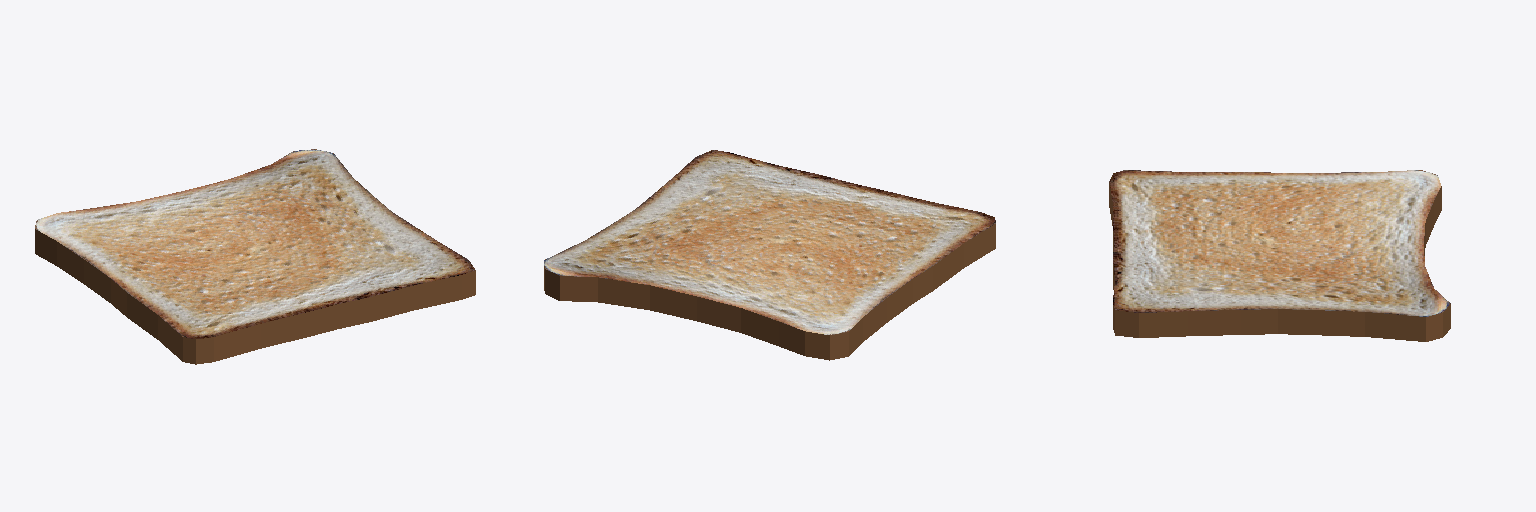
3 views of the same model, side by side, from view 1: azimuth 30°, elevation 25°; view 2: azimuth 150°, elevation 25°; view 3: azimuth 270°, elevation 25° (orthographic).
Visible parts, largest first — view 1: Cylinder_4, Cylinder_4_1; view 2: Cylinder_4, Cylinder_4_1; view 3: Cylinder_4, Cylinder_4_1.
Part boxes in pixels (x1,y1,x2,y2): Cylinder_4: (35,149,474,338); Cylinder_4_1: (35,229,475,364); Cylinder_4: (544,150,995,334); Cylinder_4_1: (544,224,995,360); Cylinder_4: (1109,170,1450,316); Cylinder_4_1: (1109,183,1450,341).
Bounding box in the file's own units: 1 × 0.0794 × 0.9798.
Materials: 2 (1 with a texture image).